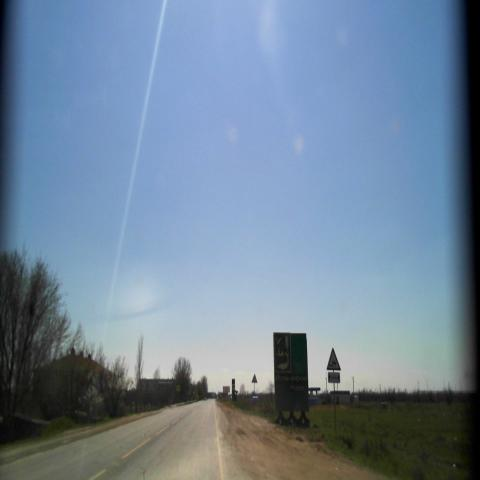1_19: (324, 346, 342, 372)
